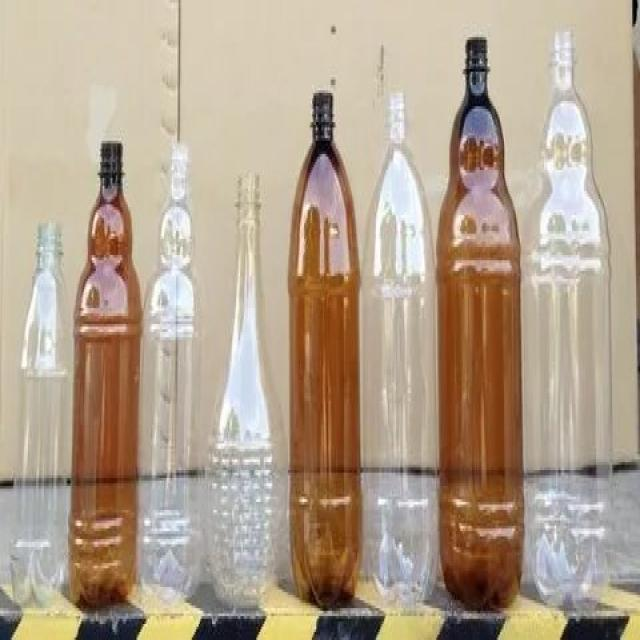brown: (437, 37, 524, 604), (287, 93, 363, 601), (68, 141, 140, 609)
